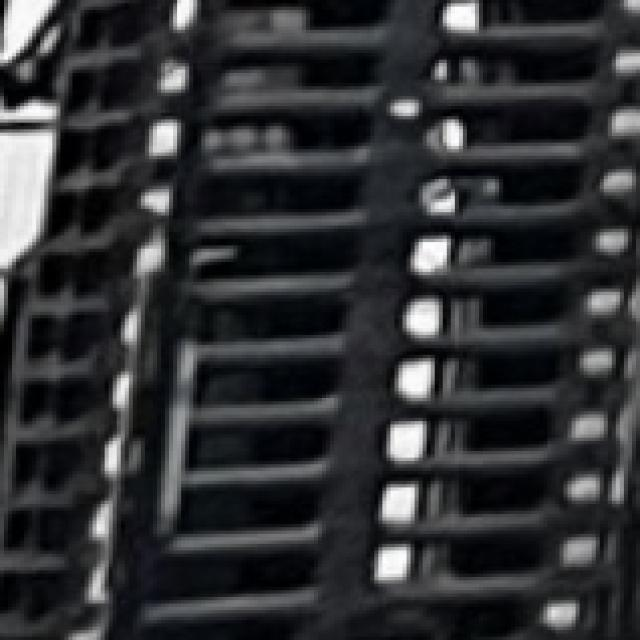igps: (50, 531, 627, 612), (92, 406, 640, 476), (75, 472, 634, 540), (104, 342, 633, 413), (132, 93, 640, 166), (53, 577, 633, 640), (109, 280, 640, 348), (132, 153, 640, 224), (128, 220, 640, 286), (146, 40, 640, 98), (160, 0, 636, 45)
